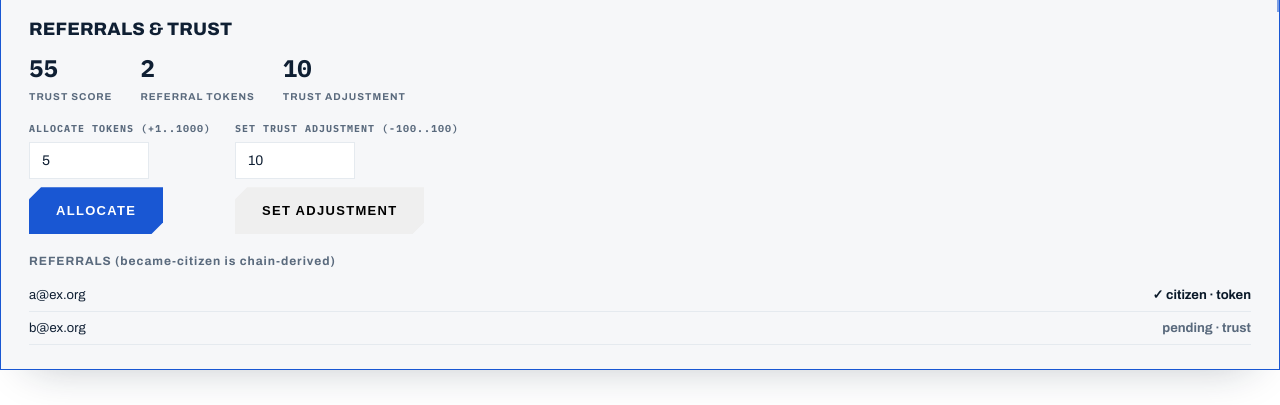
Test: AdminReferralPanel › allocate POSTs { delta } to the referral-tokens route + refetches
Expected: the button with test id "alloc-submit" is shown, [29,187,163,234]
Replace the text in the number field with test id "alloc-delta" with "7" at (89, 161), box [29,142,149,179]
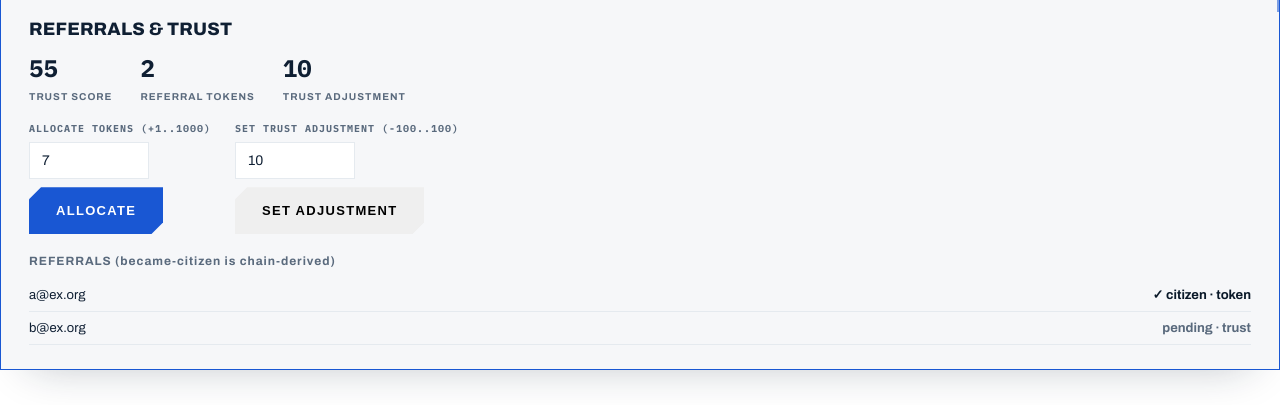
Click the button with test id "alloc-submit" at (96, 211), box [29,187,163,234]
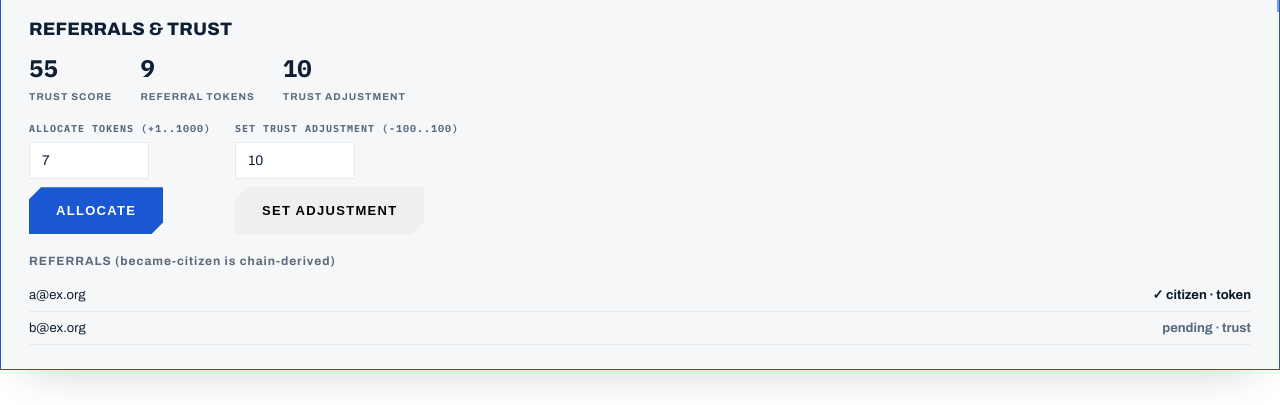
Expected: the text with test id "admin-token-balance" reads "9", [140,52,155,84]
